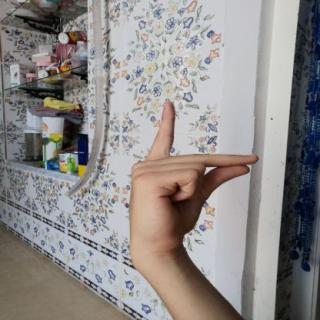TAA: (116, 96, 270, 258)
